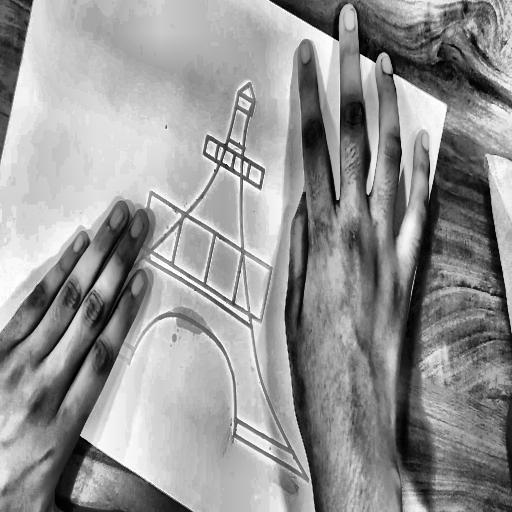eiffel-tower: (18, 0, 413, 495)
top_right: (445, 102, 449, 109)
